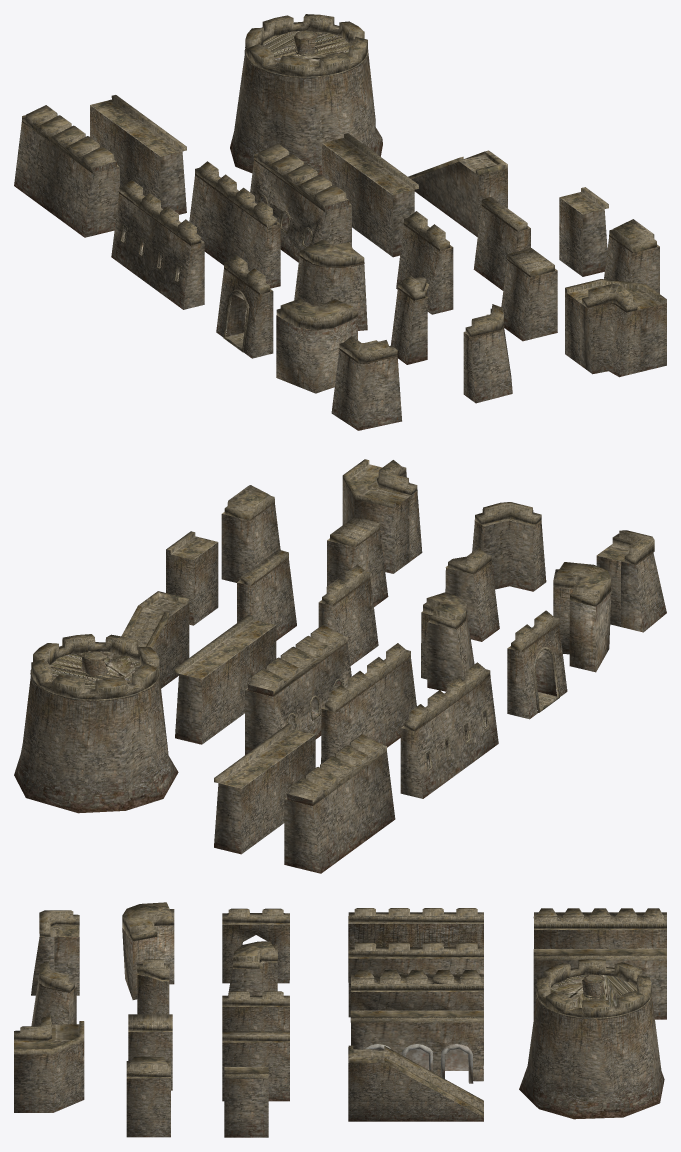
3 views of the same model, one above another, from view 1: azimuth 30°, elevation 25°; view 2: azimuth 150°, elevation 25°; view 3: azimuth 270°, elevation 25° (orthographic). The views are drawn at different scales.
Visible parts, largest first — view 1: modular_fort_01_wall_thick_corner_02.001, modular_fort_01_wall_thick_corner_02.002; view 2: modular_fort_01_wall_thick_corner_02.001, modular_fort_01_wall_thick_corner_02.002; view 3: modular_fort_01_wall_thick_corner_02.001, modular_fort_01_wall_thick_corner_02.002, modular_fort_01_wall_thick_corner_02.
Boxes of the visible parts, x1=… form: modular_fort_01_wall_thick_corner_02.001: x1=14, y1=30, x2=666, y2=430; modular_fort_01_wall_thick_corner_02.002: x1=22, y1=14, x2=666, y2=363; modular_fort_01_wall_thick_corner_02.001: x1=14, y1=474, x2=666, y2=873; modular_fort_01_wall_thick_corner_02.002: x1=30, y1=459, x2=654, y2=806; modular_fort_01_wall_thick_corner_02.001: x1=14, y1=918, x2=666, y2=1137; modular_fort_01_wall_thick_corner_02.002: x1=14, y1=902, x2=666, y2=1117; modular_fort_01_wall_thick_corner_02: x1=365, y1=1044, x2=483, y2=1083.
Size of the model in its own units: 42.67 by 13.66 by 71.38.
3 materials, 3 textured.
